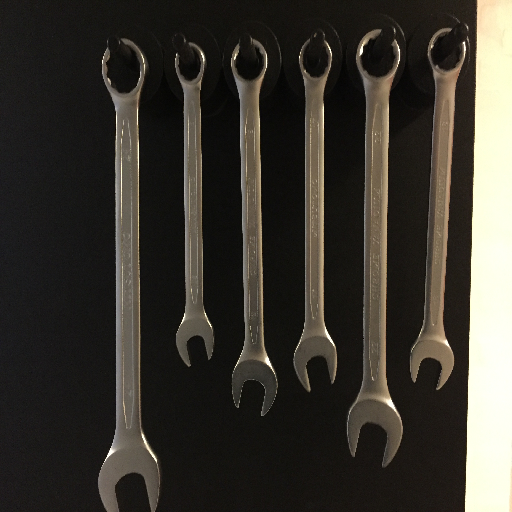bottom: (342, 395, 407, 470), (98, 441, 162, 512), (228, 353, 283, 421), (406, 335, 458, 392), (289, 335, 340, 393), (174, 317, 219, 367)
top: (95, 36, 151, 97), (354, 26, 402, 84), (422, 26, 469, 75), (225, 35, 270, 84), (294, 36, 339, 82), (172, 42, 210, 88)
